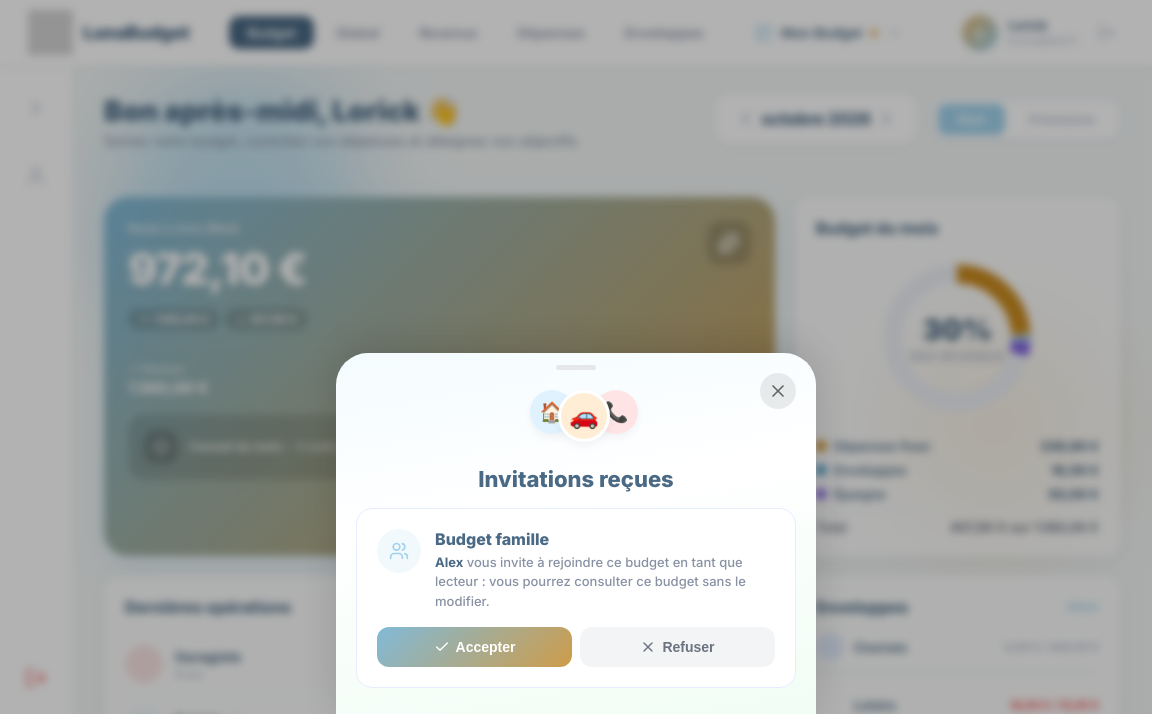
invitations reçues › refuser fait disparaître l'invitation sans rien rejoindre
The width and height of the screenshot is (1152, 714).
Click the button "Refuser". click: click(678, 647)
box: x1=580 y1=627 x2=775 y2=667
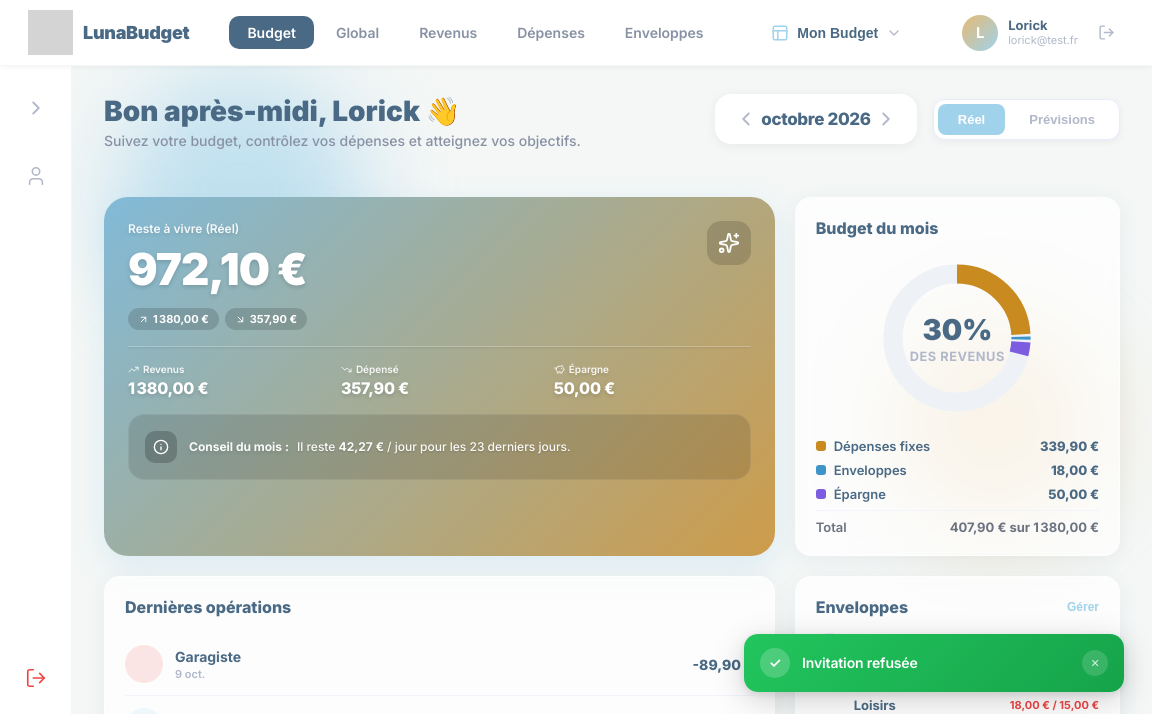
Expected: the text "Invitation refusée" is shown, x1=802 y1=654 x2=918 y2=670
Expected: the text "Invitations reçues" is gone
